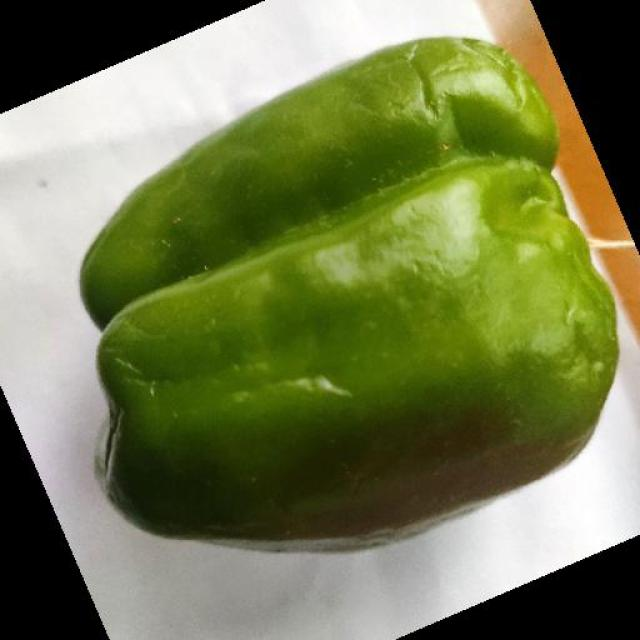Stale_Capsicum: (109, 128, 554, 501)
